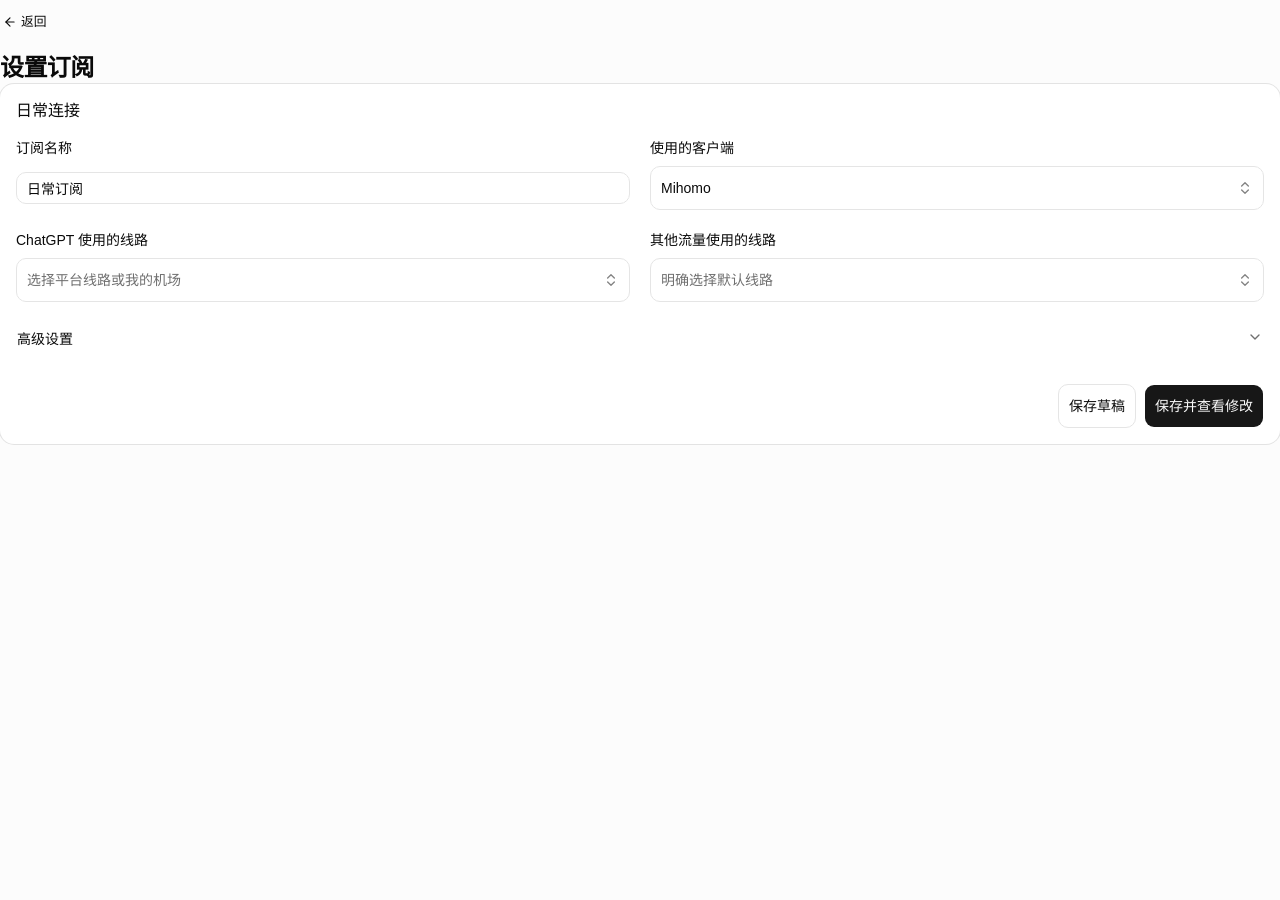
allows a private-airport-only draft without platform entitlement
Click the dropdown named "ChatGPT 使用的线路" at (104, 280), box [16,258,630,302]
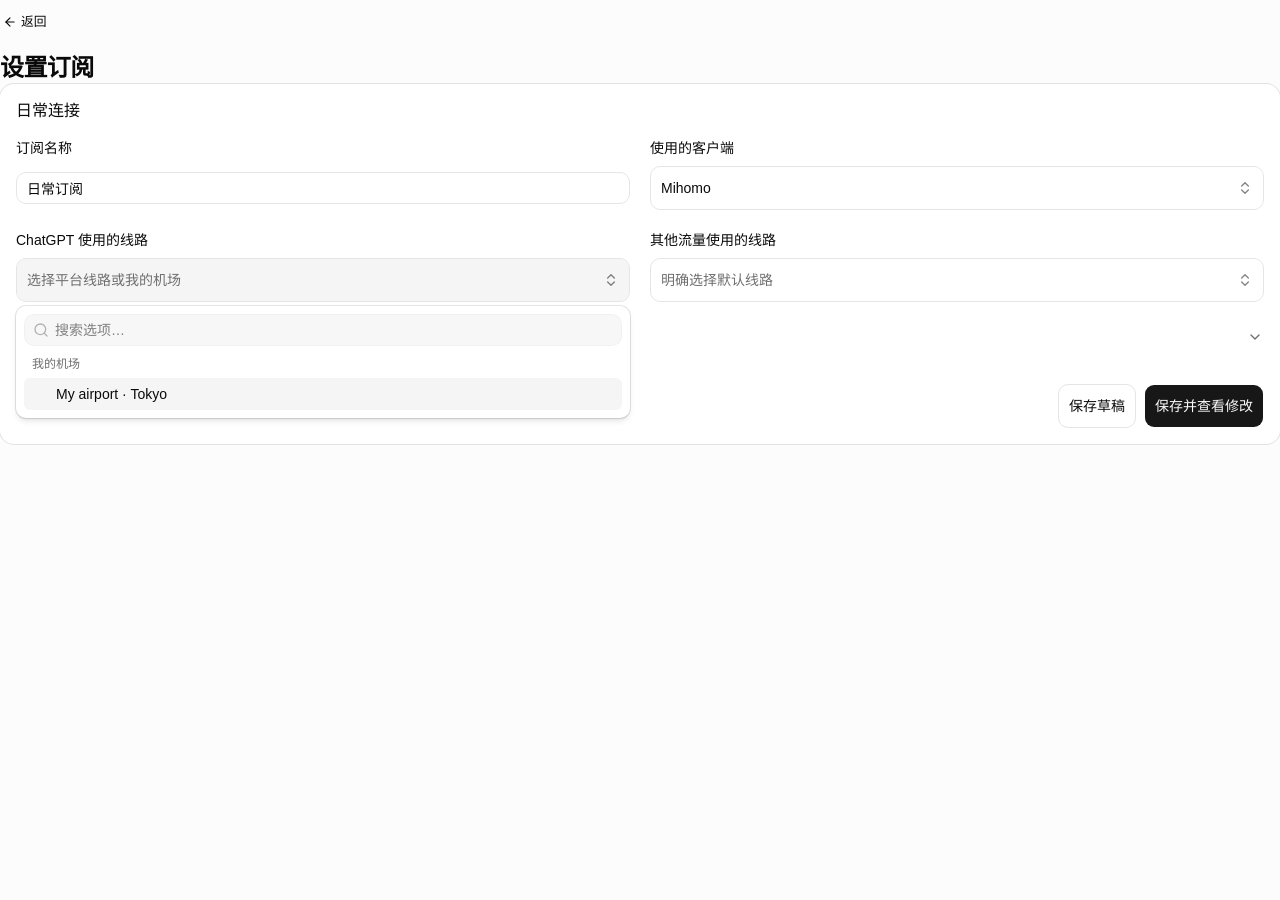
Click the option "My airport · Tokyo" at (112, 394), box [24,378,622,410]
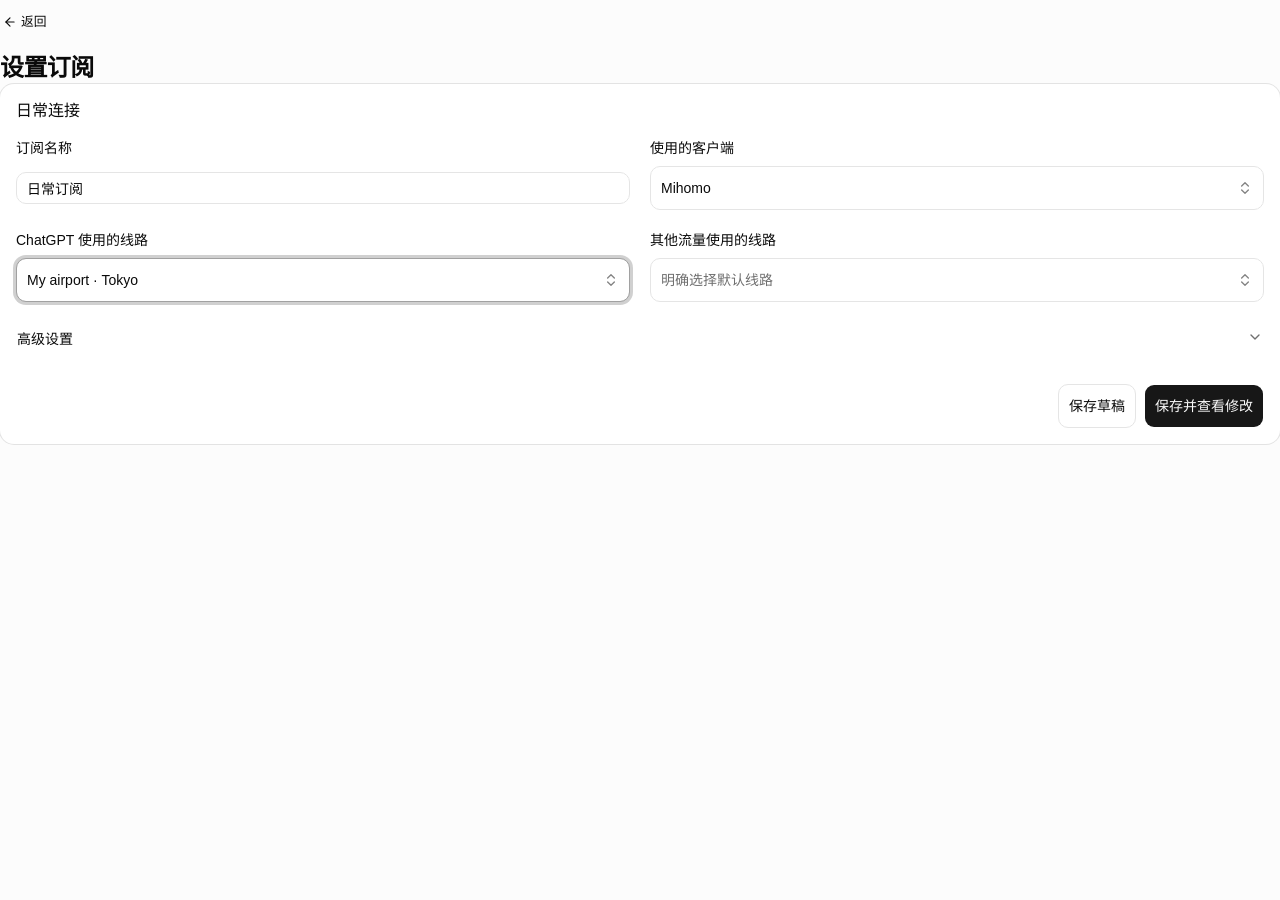
Click the dropdown named "其他流量使用的线路" at (717, 280), box [650,258,1264,302]
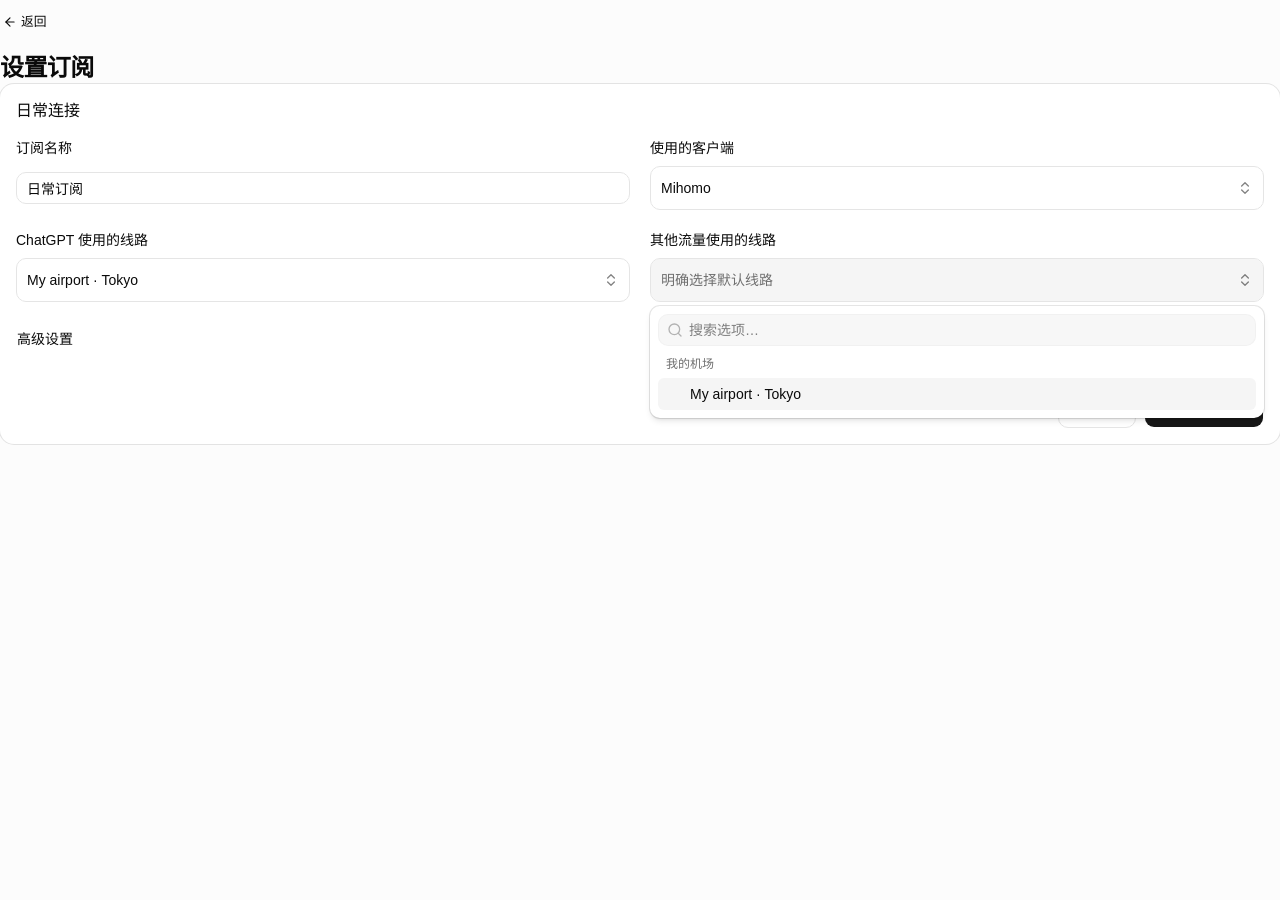
Click the option "My airport · Tokyo" at (746, 394), box [658,378,1256,410]
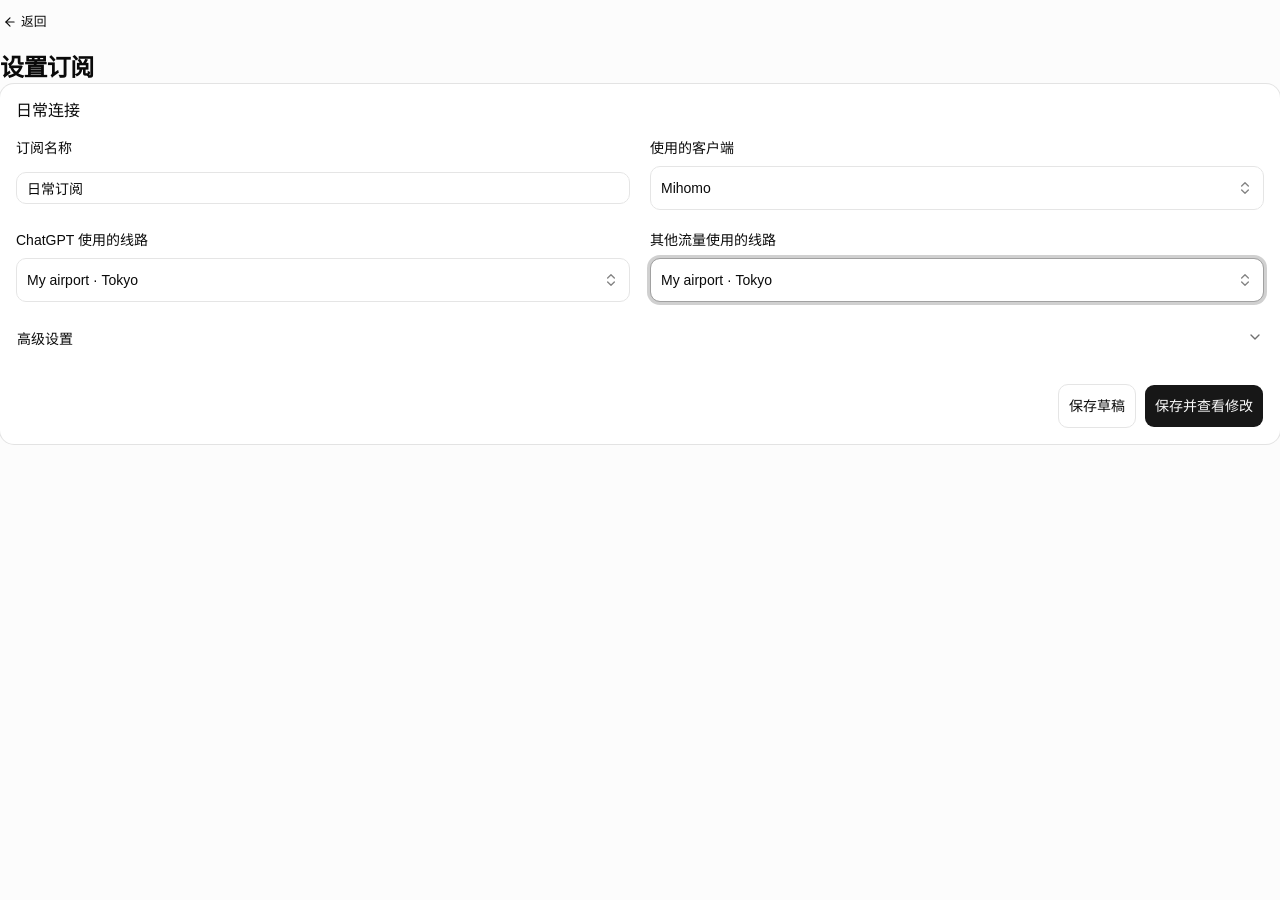
Click the button "保存并查看修改" at (1204, 406), box [1144,384,1264,428]
(page scrolled)
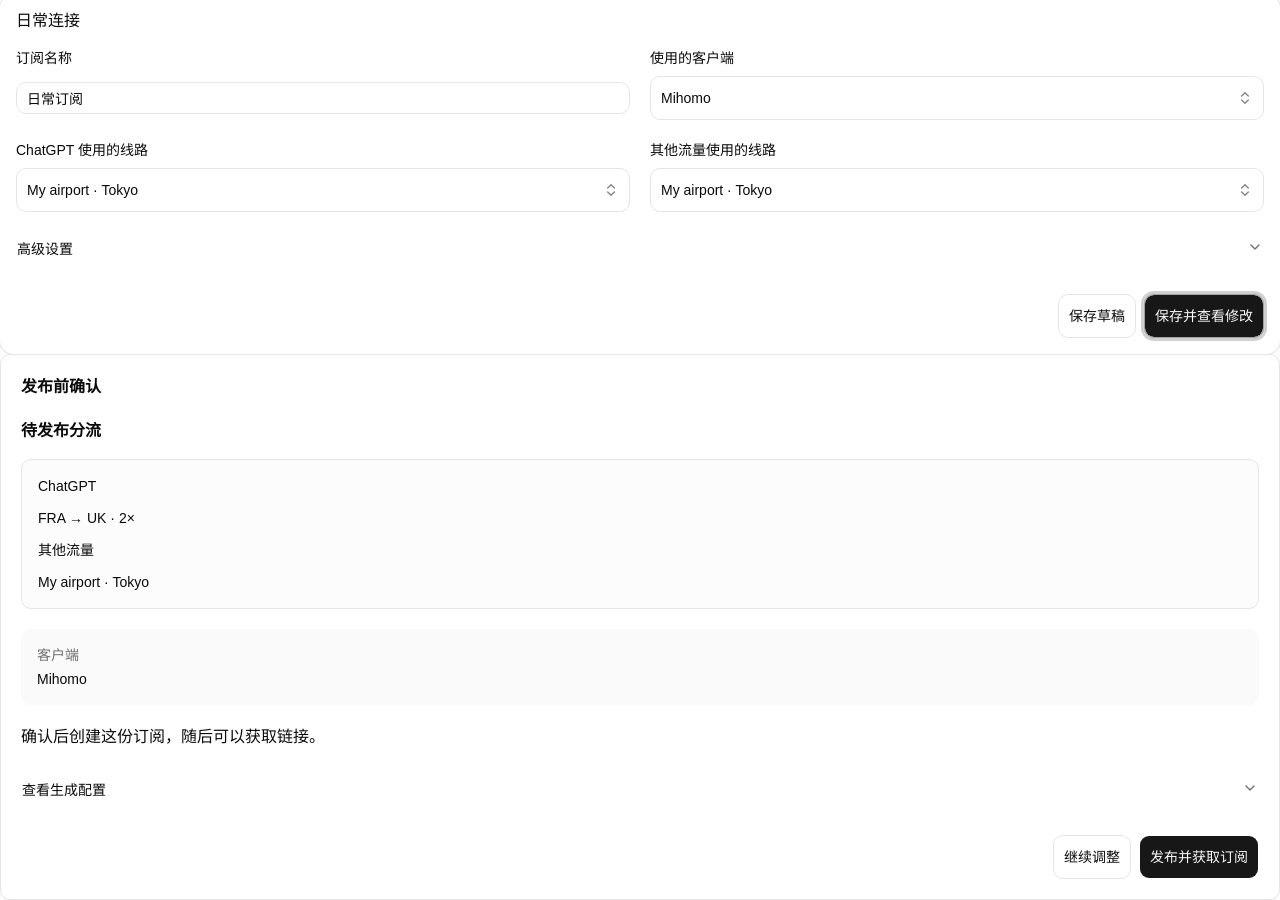
Now the element "发布前确认" is shown
